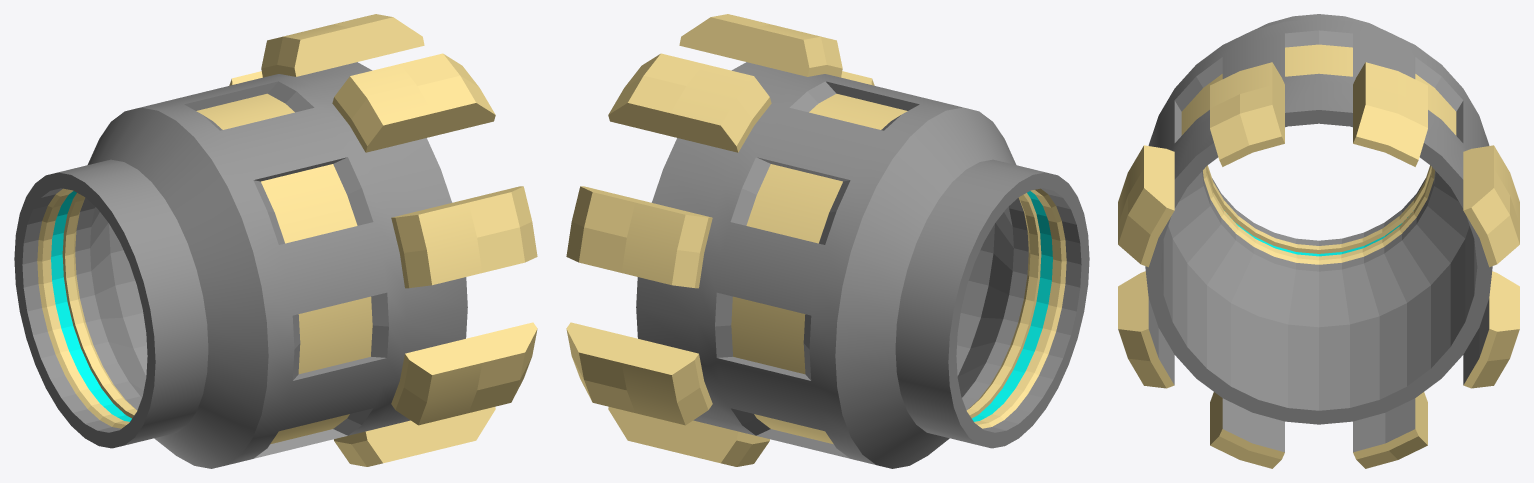
The model's file is SM_ConnectorLockClamps.FBX.
The picture shows the model from 3 angles, left to right: view 1: azimuth 30°, elevation 25°; view 2: azimuth 150°, elevation 25°; view 3: azimuth 270°, elevation 25°; orthographic projection. The views are drawn at different scales.
Parts seen in each view (by area): view 1: Cylinder003; view 2: Cylinder003; view 3: Cylinder003.
Boxes of the visible parts, bbox=[...] form: Cylinder003: bbox=[14, 14, 537, 468]; Cylinder003: bbox=[566, 14, 1089, 468]; Cylinder003: bbox=[1118, 14, 1519, 468].
Size of the model in its own units: 2303 by 2386 by 2386.
